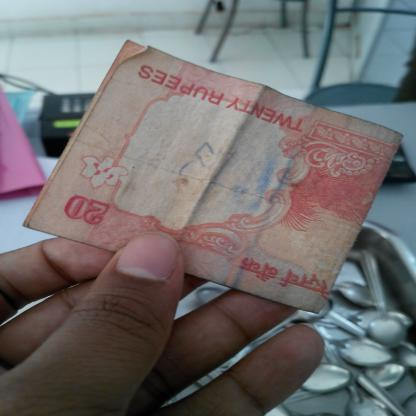Old20Back: (46, 44, 406, 307)
